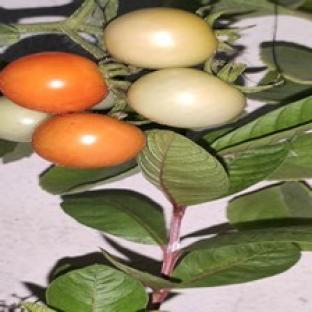Tomato: (127, 69, 245, 128), (105, 7, 217, 68), (0, 52, 107, 112), (33, 113, 144, 168), (0, 97, 50, 142), (91, 92, 115, 110)
